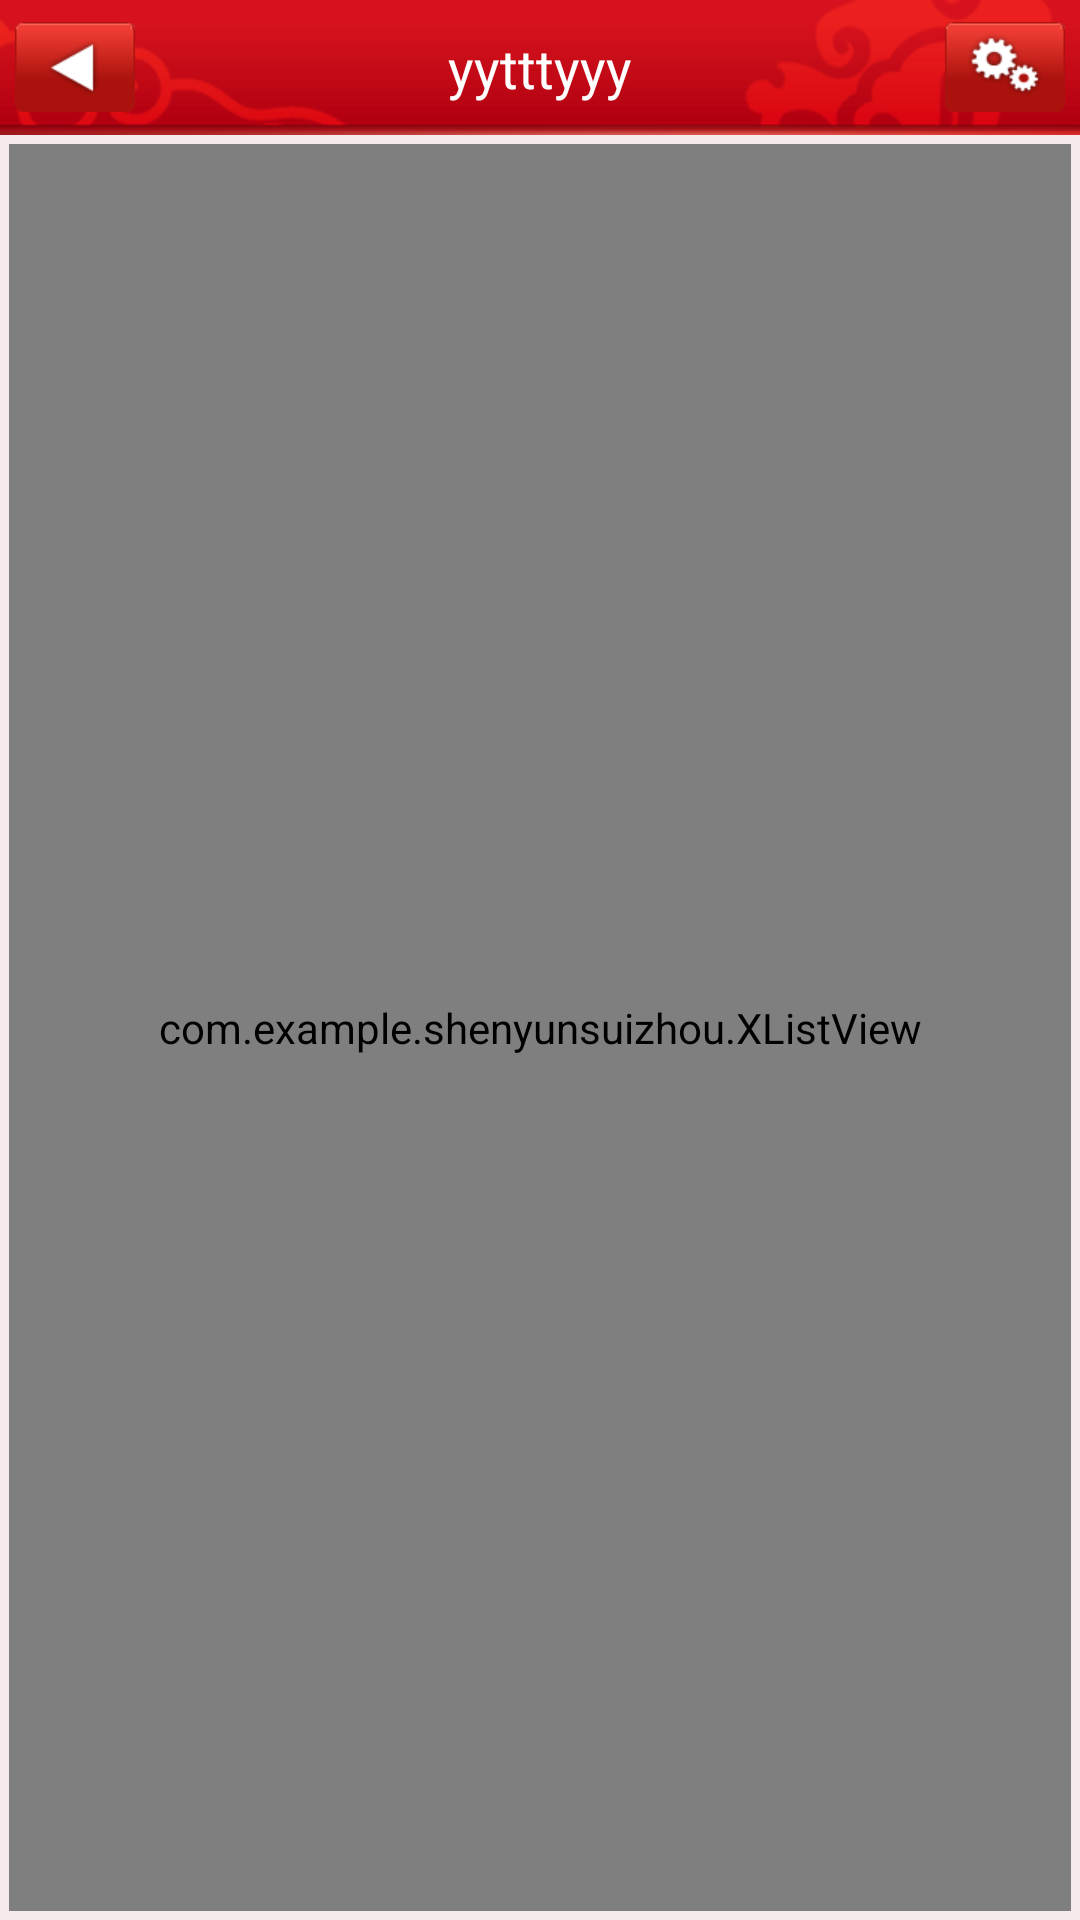

Icons on this 1080*1920 Android screen, each with the point to tap as [x,y]:
back an: [75,67]
set an: [1005,67]
